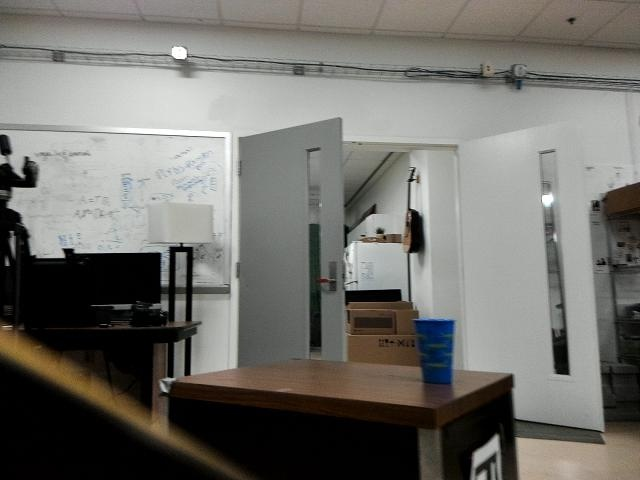water_cup: (408, 317, 457, 387)
